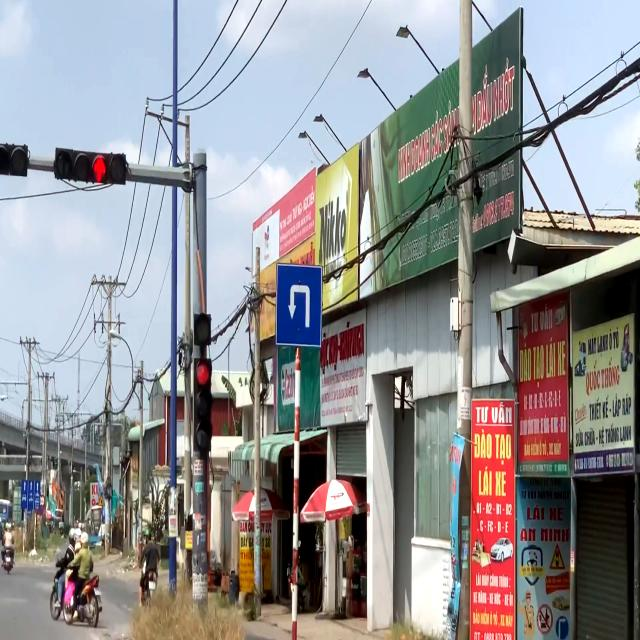R.409: (275, 262, 323, 348)
